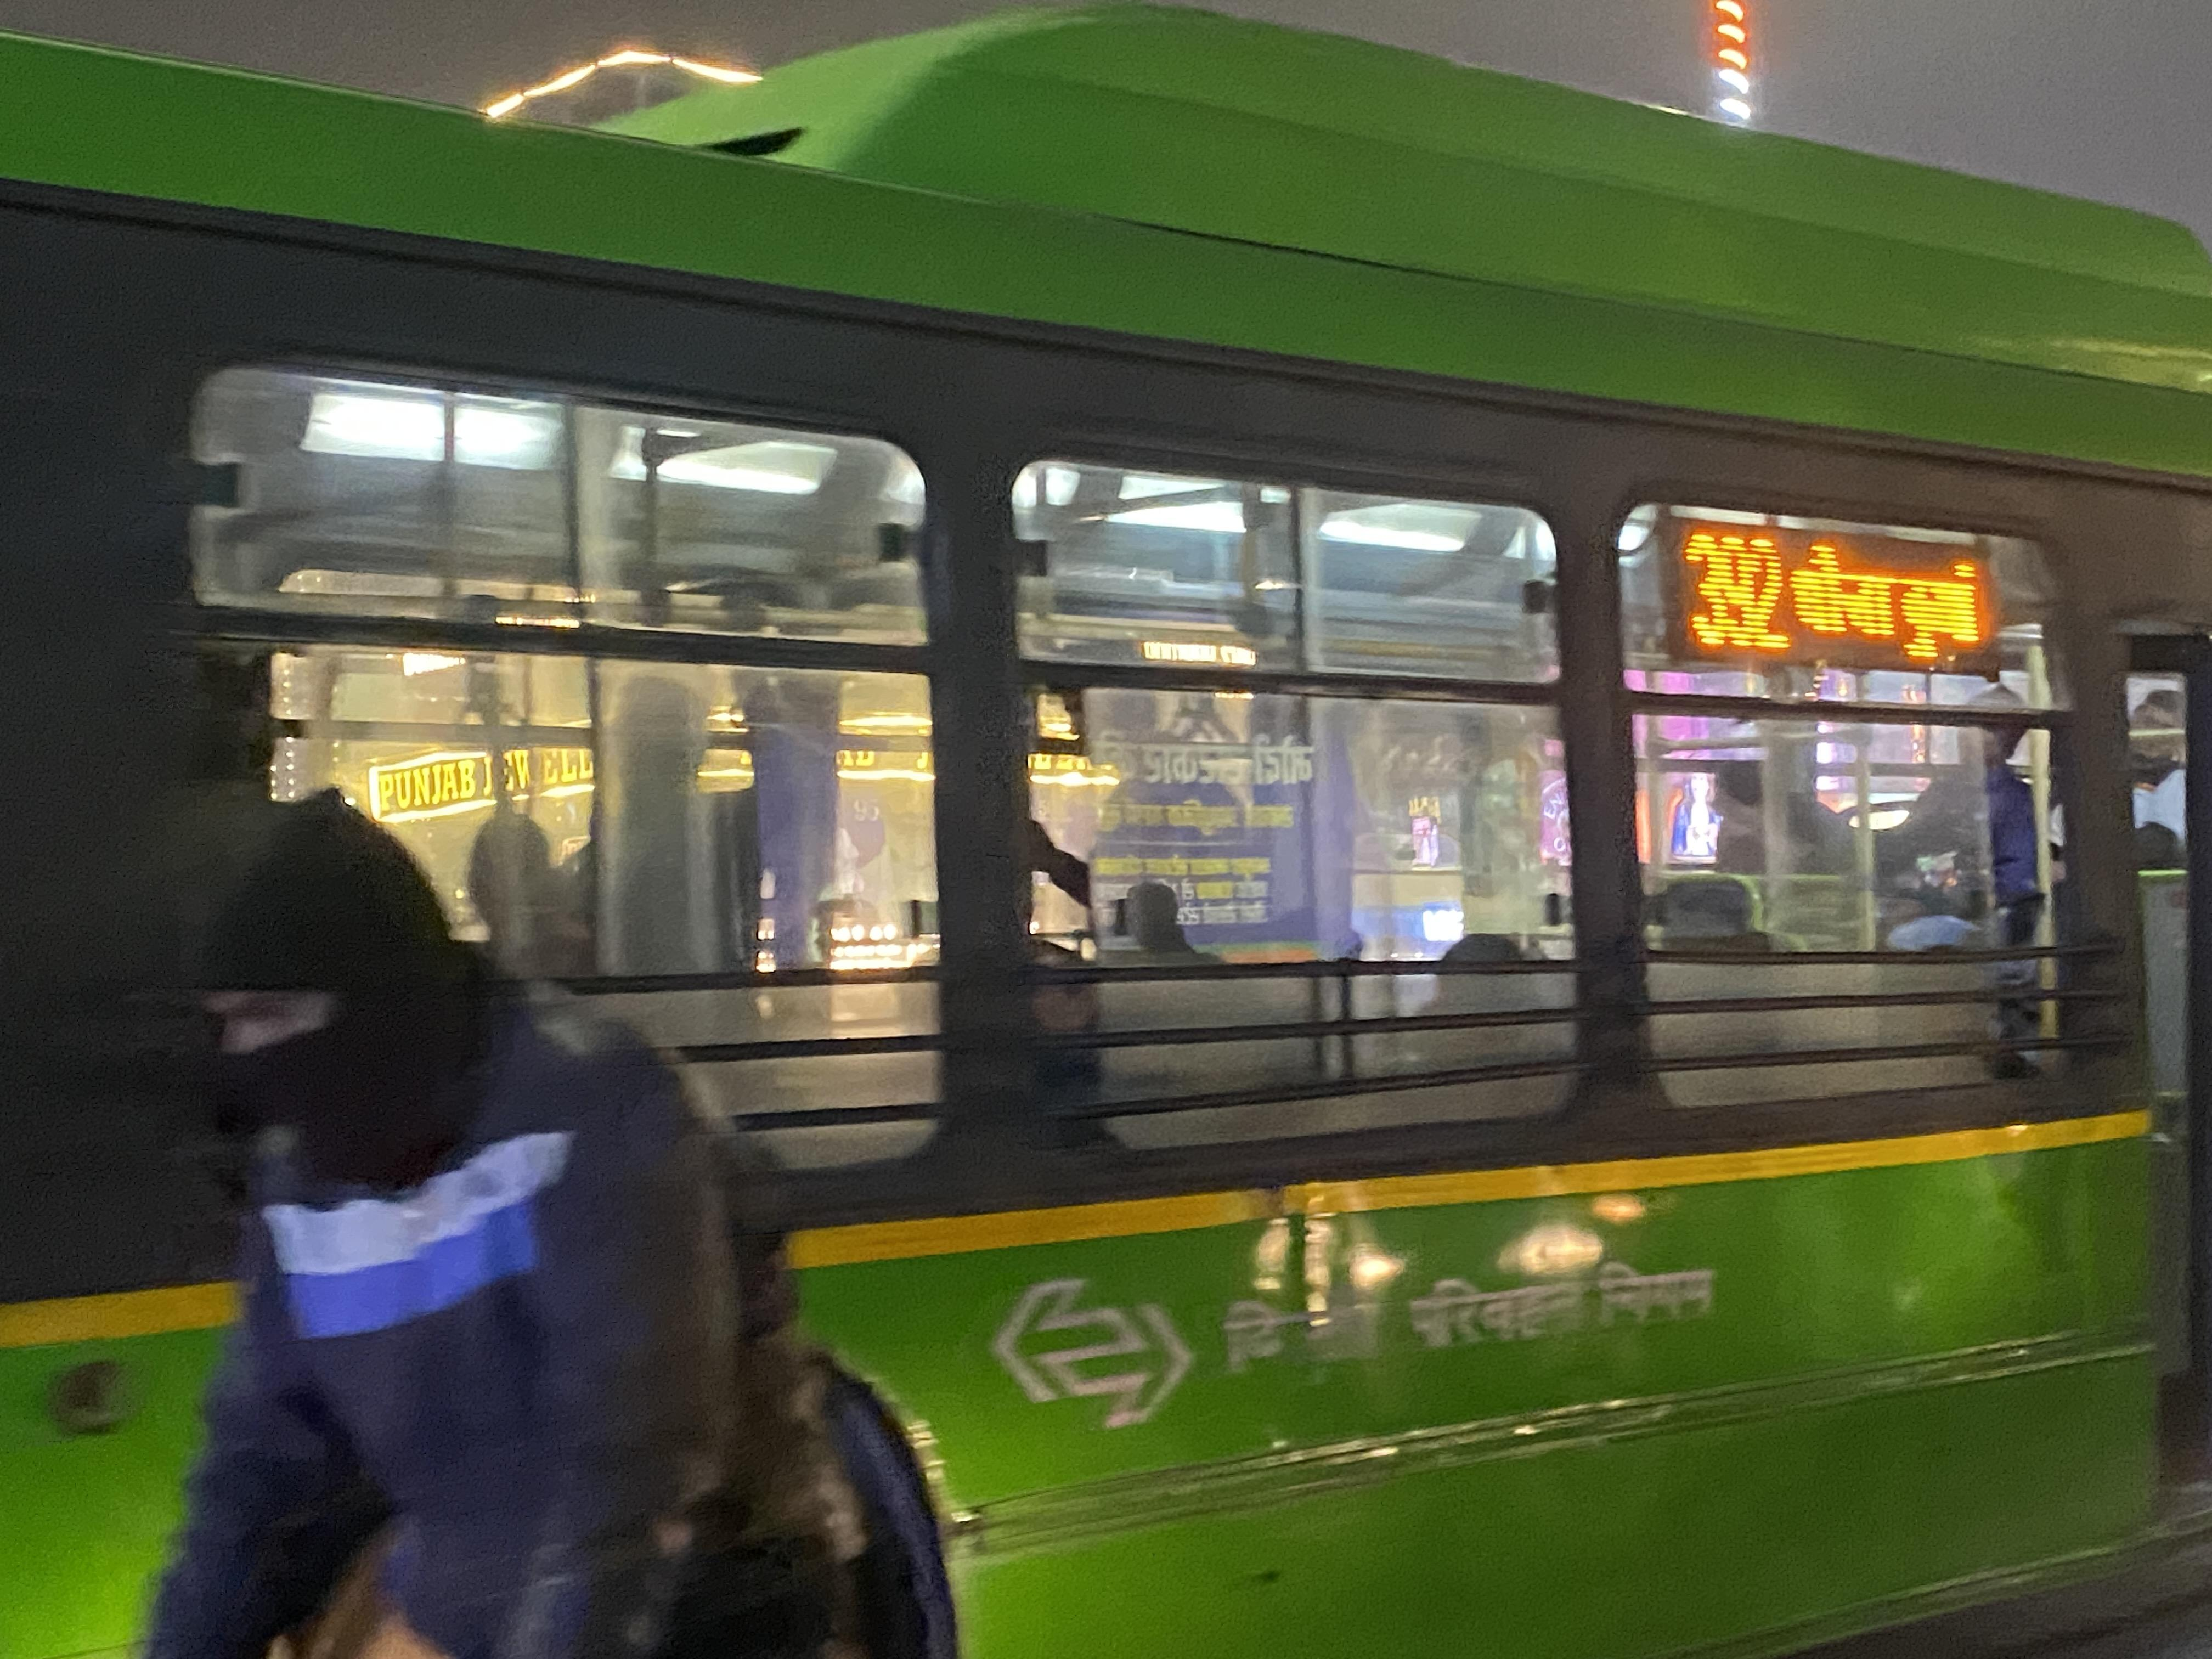Bus: (0, 23, 2212, 1659)
Display Board: (1641, 498, 2024, 702)
